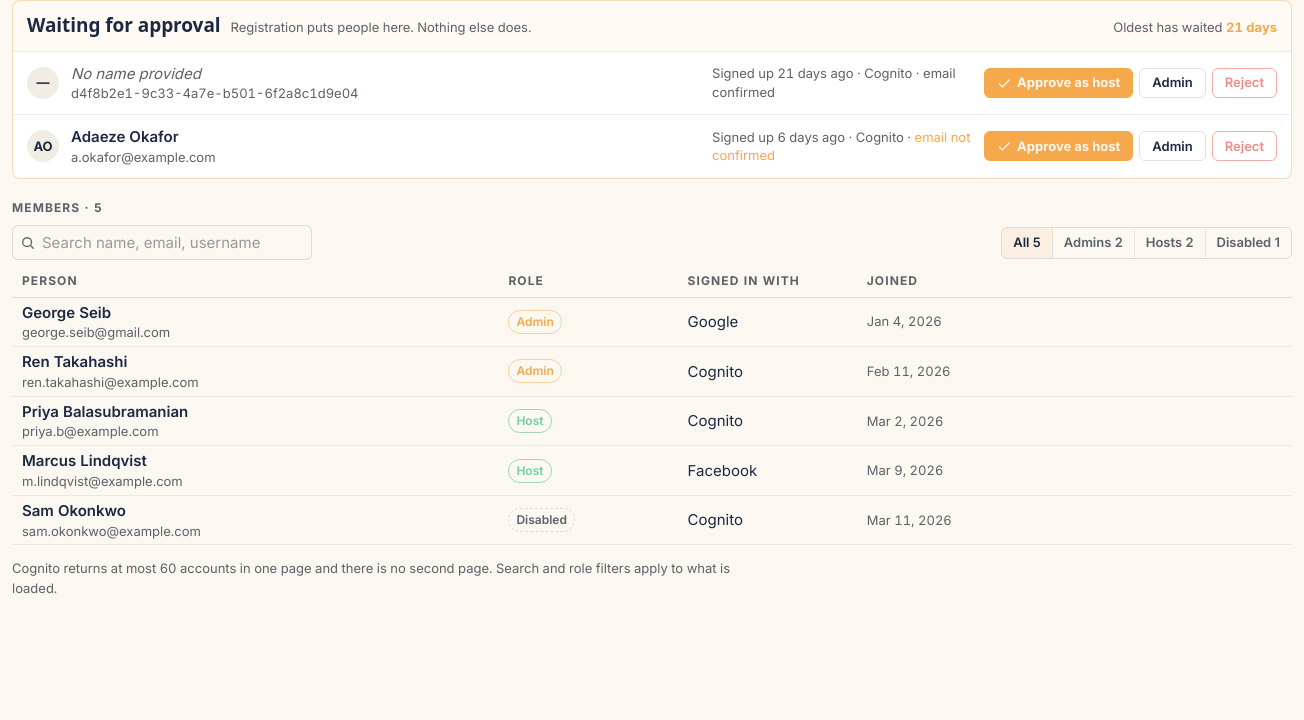
Test: search and paging, which used to be a round trip to nowhere › search reaches the queue too, and says when it has emptied it
This screenshot has width=1304, height=720.
Type "lindqvist" into the search field labelled "Search name, email, username" at point(162, 243), box [12,225,312,260]
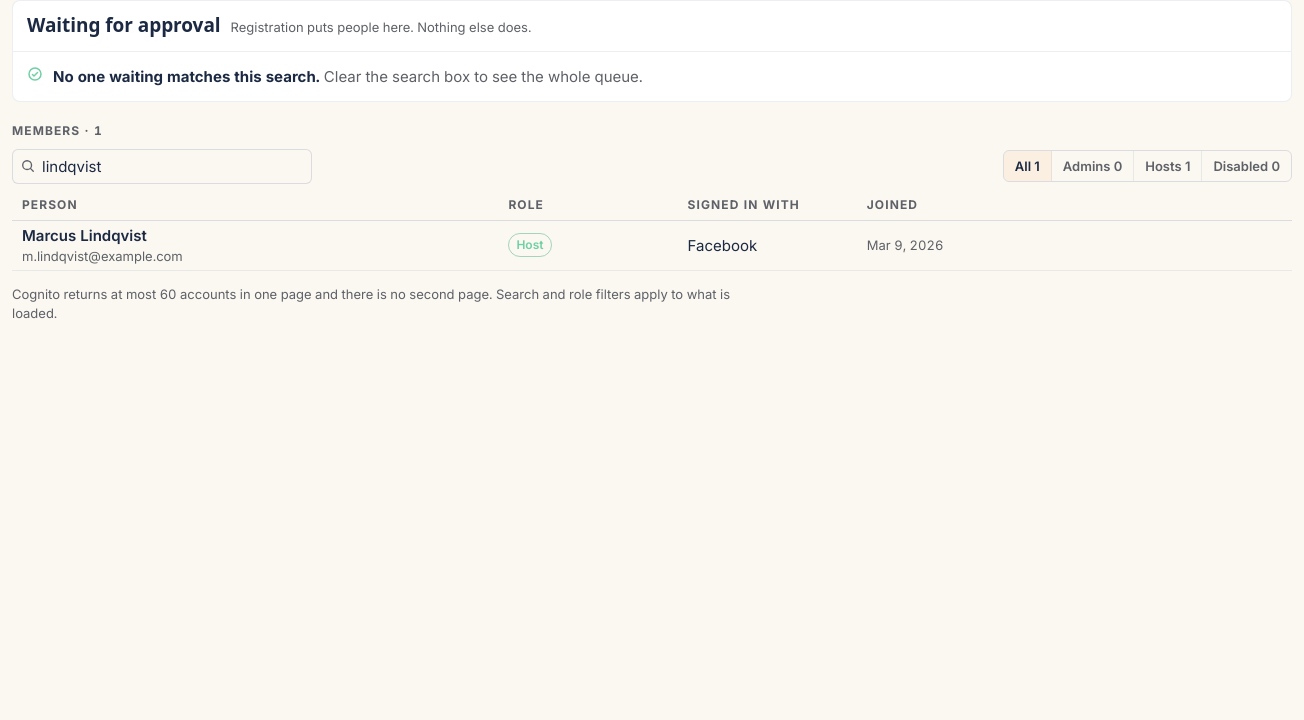
Result: the text "Adaeze Okafor" is gone
Result: the text "No one waiting matches this search." is shown at [53,66,320,86]
